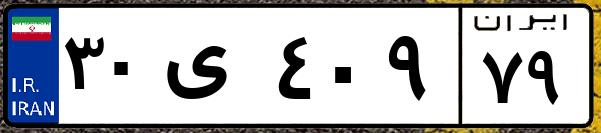0: (330, 28, 385, 110), (110, 28, 158, 98)
3: (57, 26, 110, 100)
4: (270, 28, 330, 110)
7: (475, 38, 525, 113)
9: (385, 28, 445, 110), (525, 38, 570, 115)
ی: (158, 20, 270, 120)
